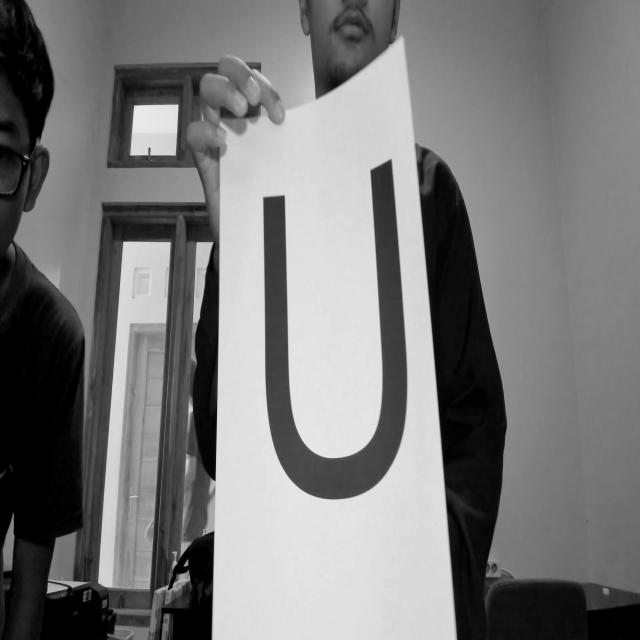u: (240, 144, 428, 514)
